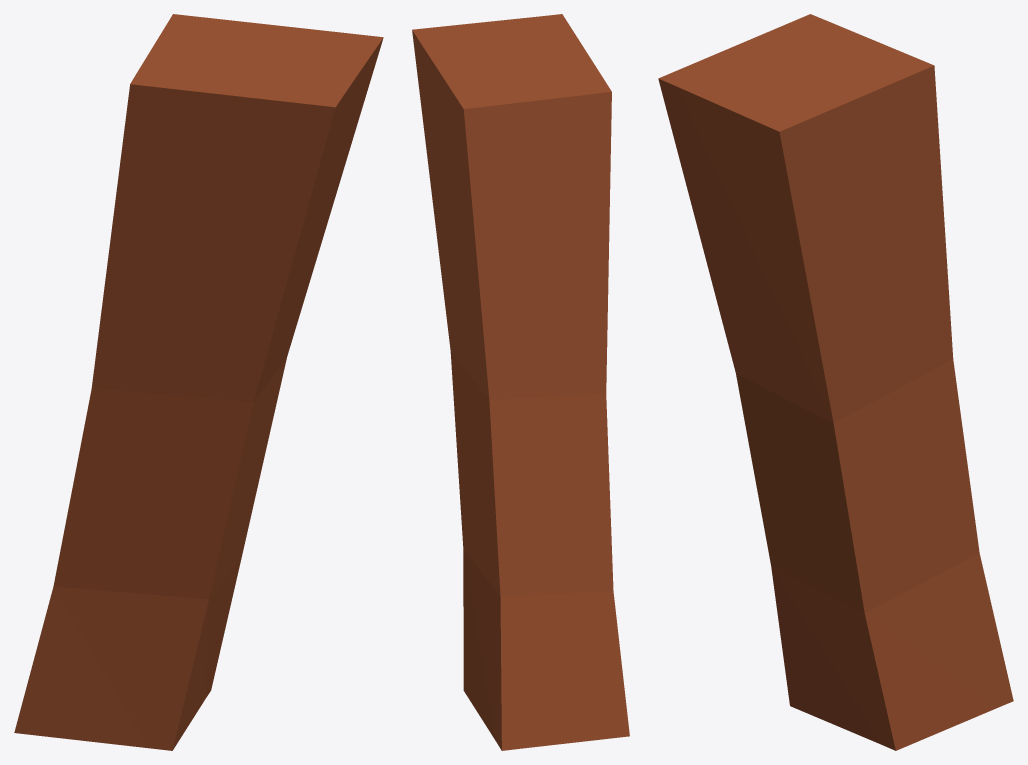
The model's file is Prop_Building_Savage_Timber_Support_Beam_01.FBX.
The picture shows the model from 3 angles, left to right: view 1: azimuth 30°, elevation 25°; view 2: azimuth 150°, elevation 25°; view 3: azimuth 270°, elevation 25°; orthographic projection. The views are drawn at different scales.
Parts seen in each view (by area): view 1: Prop_Building_Savage_Timber_Support_Beam_01; view 2: Prop_Building_Savage_Timber_Support_Beam_01; view 3: Prop_Building_Savage_Timber_Support_Beam_01.
Part boxes in pixels (x1,y1,x2,y2): Prop_Building_Savage_Timber_Support_Beam_01: (14,14,383,750); Prop_Building_Savage_Timber_Support_Beam_01: (412,14,629,750); Prop_Building_Savage_Timber_Support_Beam_01: (658,14,1013,750).
Bounding box in the file's own units: 1515 × 3155 × 1503.
